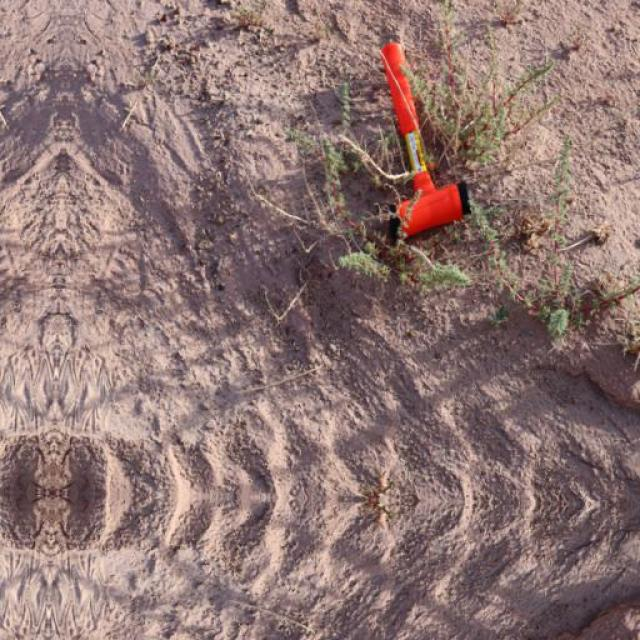mallet: (378, 39, 474, 240)
